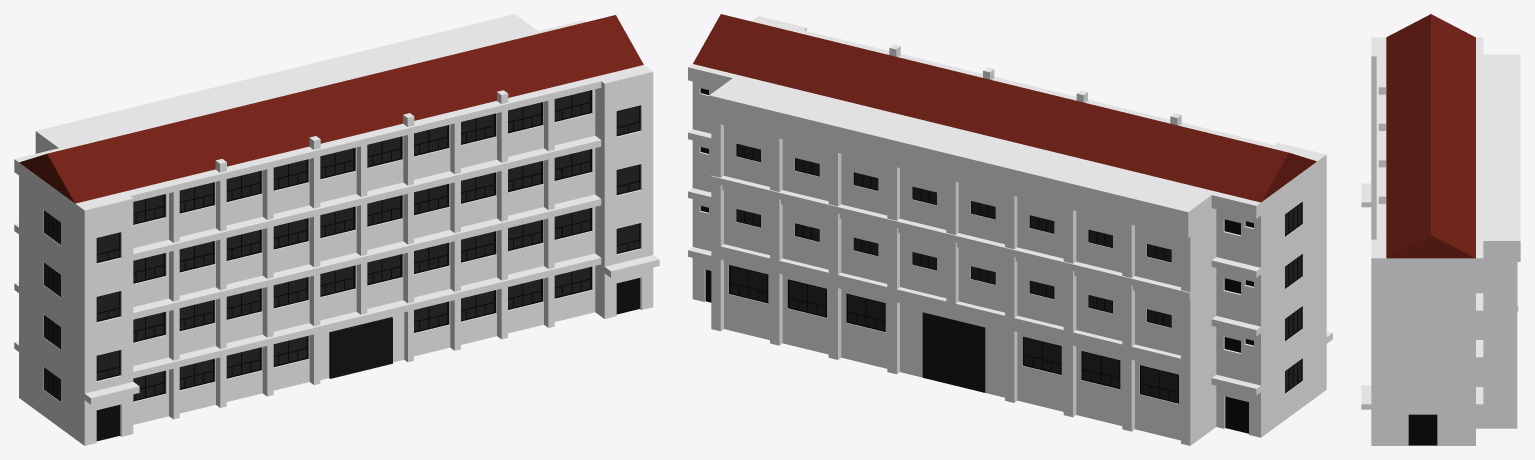
The model's file is jinri.fbx.
The picture shows the model from 3 angles, left to right: view 1: azimuth 30°, elevation 25°; view 2: azimuth 150°, elevation 25°; view 3: azimuth 270°, elevation 25°; orthographic projection. The views are drawn at different scales.
Visible parts, largest first — view 1: Box001, Prism001, Box007, Box006, Box005, Box004, Box265, Box279, Box014, Box013, Box016, Box015 (+54 smaller); view 2: Box001, Prism001, Box175, Box176, Box264, Box262, Box174, Box172, Box007, Box177, Box274, Box173 (+24 smaller); view 3: Box001, Prism001, Box007, Box327, Box170, Box266, Box003, Box002, Box288, Box289, Box290, Box292.
Part boxes in pixels (x1=…): Box001: x1=19, y1=14, x2=653, y2=445; Prism001: x1=19, y1=15, x2=643, y2=203; Box007: x1=124, y1=77, x2=601, y2=201; Box006: x1=133, y1=135, x2=601, y2=260; Box005: x1=133, y1=194, x2=601, y2=319; Box004: x1=133, y1=253, x2=601, y2=378; Box265: x1=329, y1=317, x2=392, y2=378; Box279: x1=356, y1=145, x2=367, y2=314; Box014: x1=262, y1=226, x2=273, y2=396; Box013: x1=309, y1=215, x2=320, y2=384; Box016: x1=169, y1=250, x2=179, y2=419; Box015: x1=216, y1=238, x2=226, y2=407; Box001: x1=692, y1=16, x2=1326, y2=441; Prism001: x1=693, y1=14, x2=1316, y2=202; Box175: x1=711, y1=244, x2=1195, y2=373; Box176: x1=710, y1=175, x2=1193, y2=299; Box264: x1=922, y1=312, x2=985, y2=392; Box262: x1=900, y1=303, x2=1004, y2=397; Box174: x1=1181, y1=285, x2=1195, y2=445; Box172: x1=1063, y1=258, x2=1076, y2=417; Box007: x1=800, y1=30, x2=1273, y2=147; Box177: x1=722, y1=185, x2=1180, y2=301; Box274: x1=1181, y1=213, x2=1195, y2=373; Box173: x1=1122, y1=272, x2=1134, y2=431; Box001: x1=1371, y1=37, x2=1520, y2=445; Prism001: x1=1386, y1=14, x2=1475, y2=258; Box007: x1=1376, y1=56, x2=1386, y2=239; Box327: x1=1408, y1=414, x2=1437, y2=445; Box170: x1=1512, y1=303, x2=1517, y2=428; Box266: x1=1512, y1=262, x2=1517, y2=371; Box003: x1=1361, y1=385, x2=1371, y2=409; Box002: x1=1361, y1=183, x2=1371, y2=207; Box288: x1=1476, y1=387, x2=1483, y2=409; Box289: x1=1476, y1=340, x2=1483, y2=362; Box290: x1=1476, y1=293, x2=1483, y2=315; Box292: x1=1476, y1=241, x2=1483, y2=263.
Size of the model in its own units: 910 by 405 by 277.
